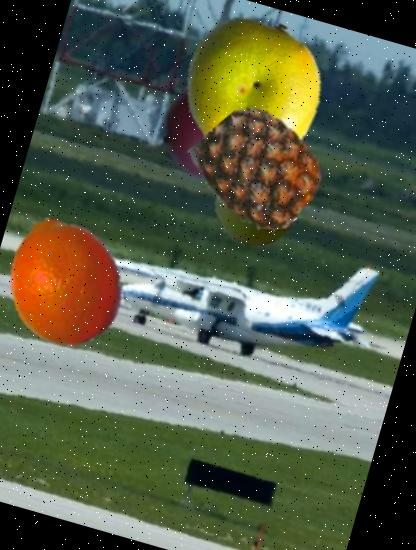Grape: (203, 154, 307, 258)
Onion: (135, 54, 312, 231)
Pineapple: (183, 93, 336, 246)
Pomelo: (164, 2, 338, 176)
Tangelo: (0, 199, 145, 360)
